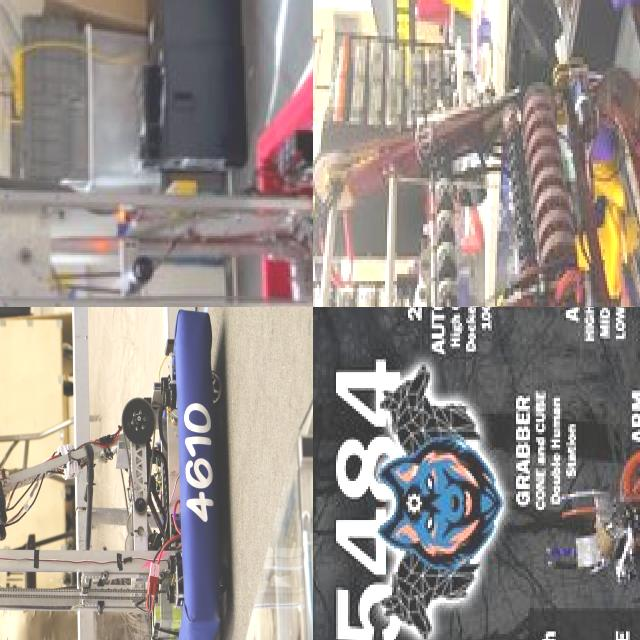FRC-Robots: (313, 0, 640, 307), (0, 0, 313, 307), (0, 307, 228, 640), (496, 307, 640, 640)
